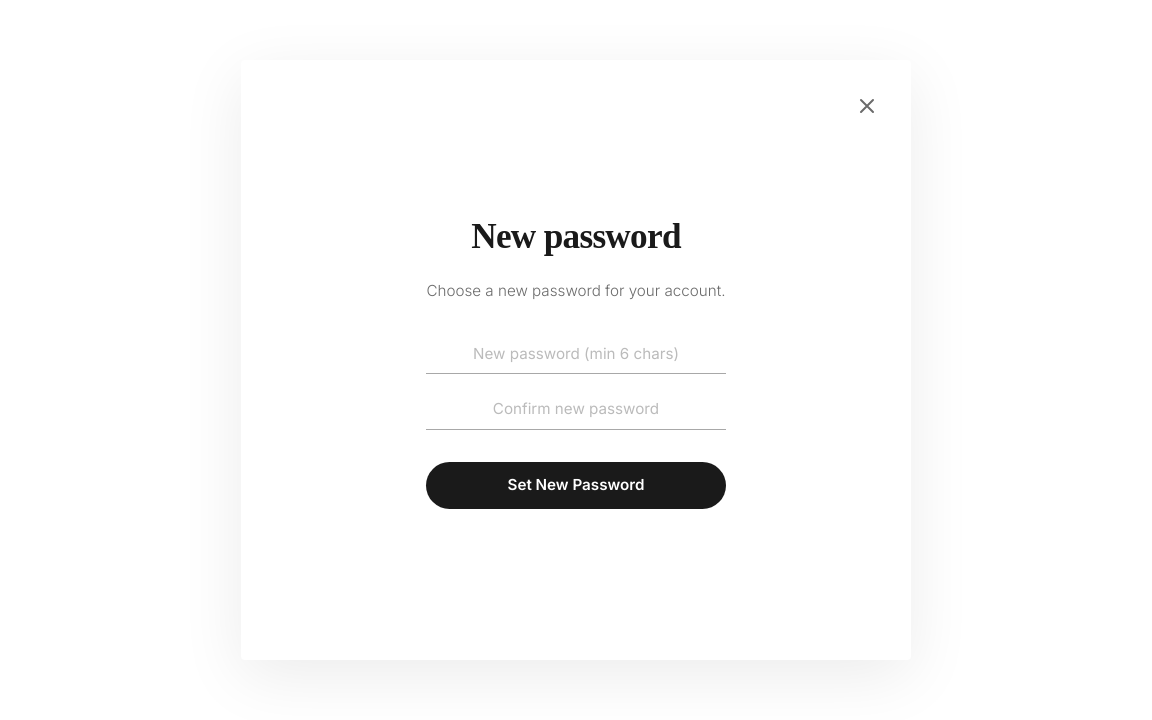
Scenario: Login Component › handles reset password flow with resetToken
In the password field with placeholder "New password (min 6 chars)": x=576, y=354 [426,335,726,374], type "NewPass123!"
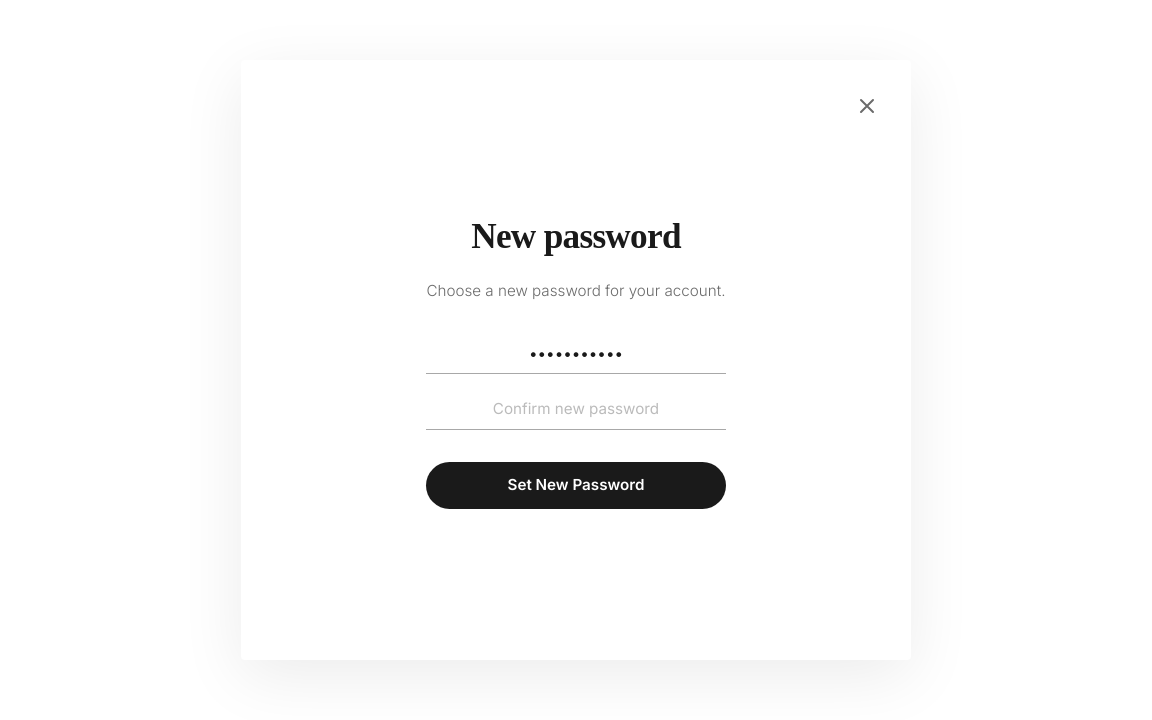
In the password field with placeholder "Confirm new password": x=576, y=410 [426,390,726,430], type "NewPass123!"
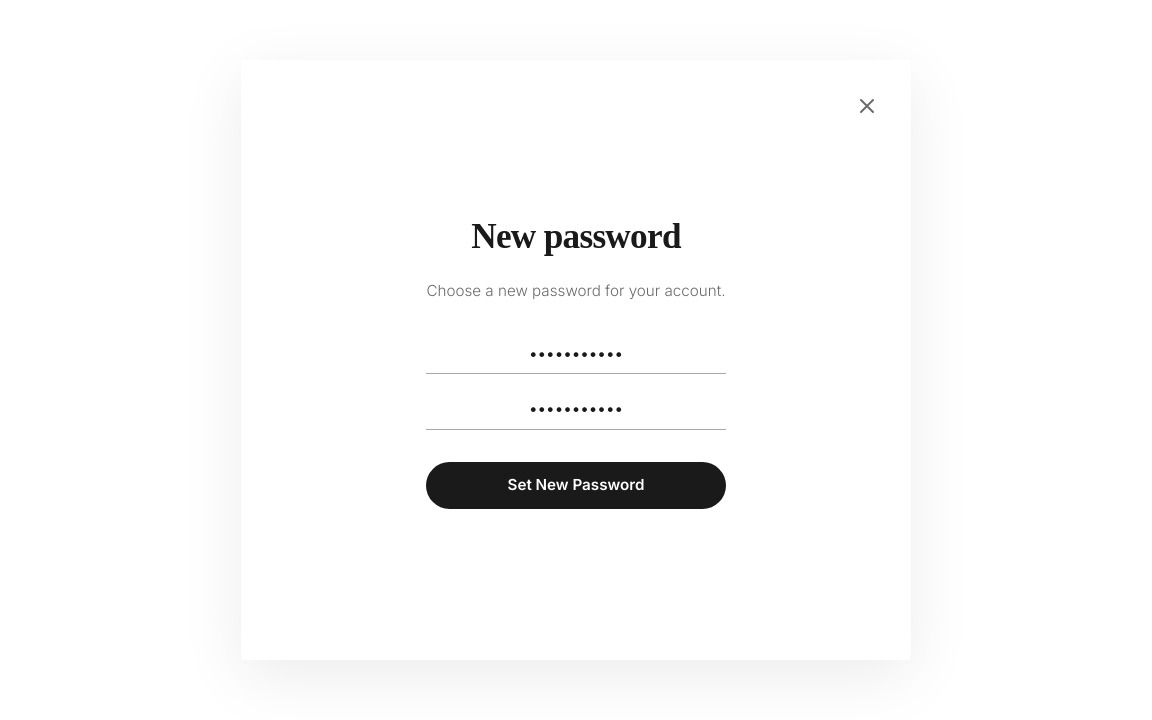
Click the button "Set New Password": x=576, y=486 [426,462,726,509]
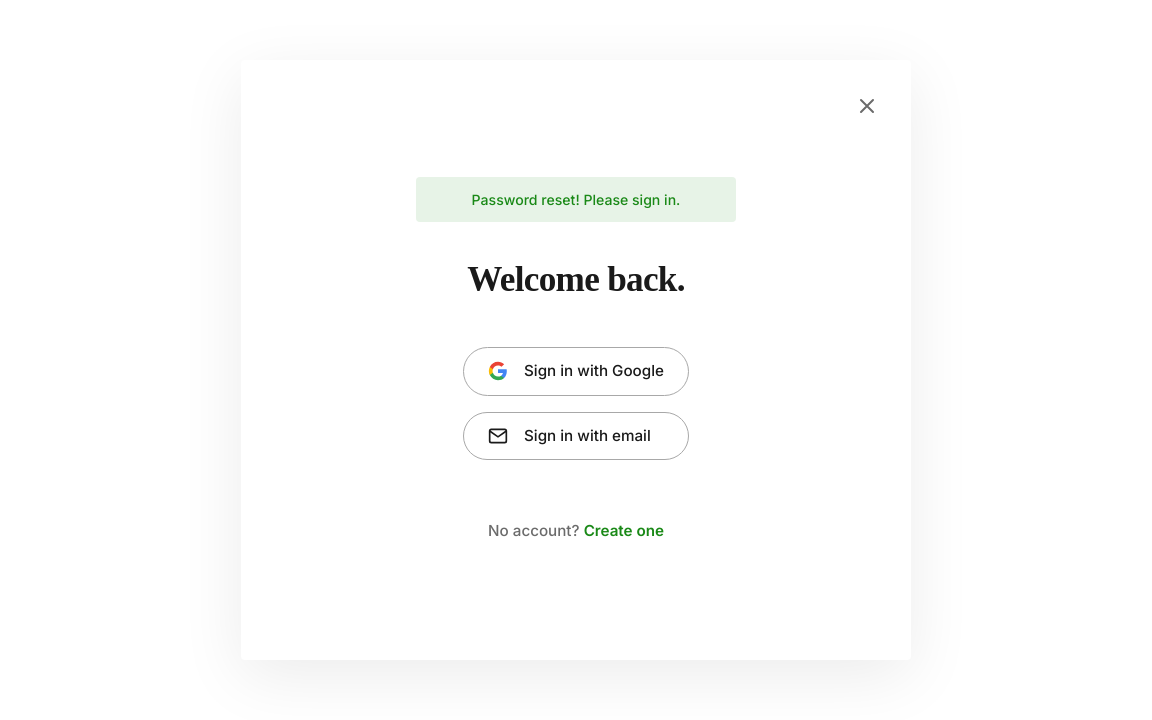
Expected: the text "Password reset! Please sign in." is shown, [416,177,736,222]
